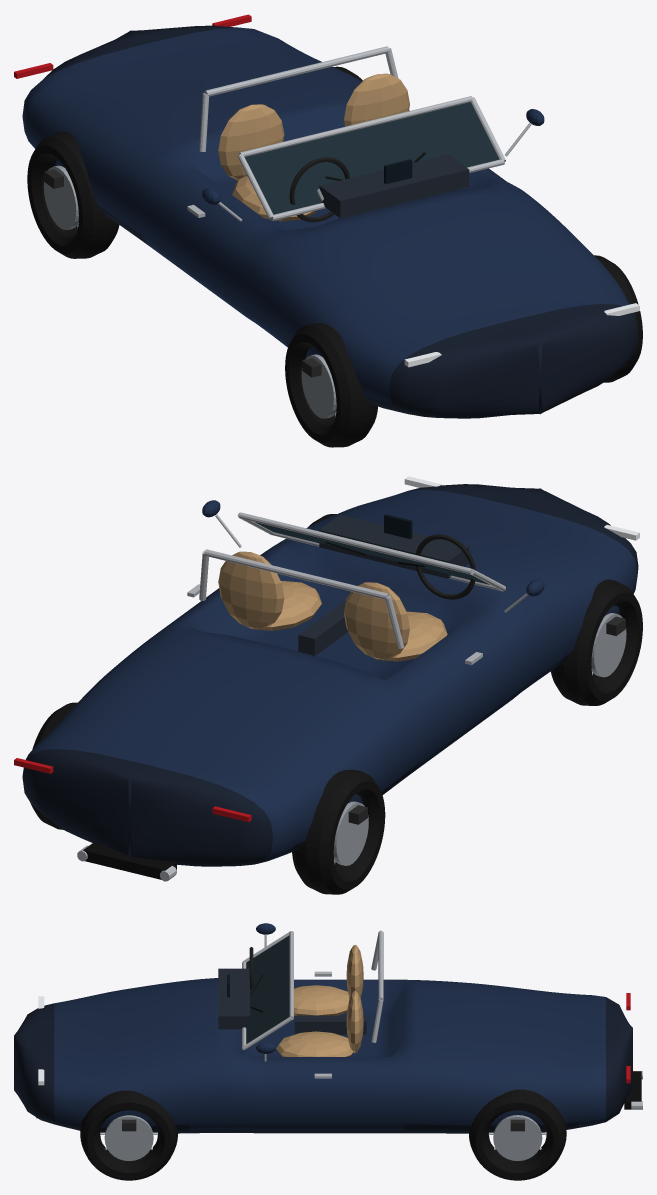
The model's file is Convertible.glb.
3 renders of one model, top to bottom at view 1: azimuth 30°, elevation 25°; view 2: azimuth 150°, elevation 25°; view 3: azimuth 270°, elevation 25°, orthographic. The views are drawn at different scales.
Parts seen in each view (by area): view 1: CarBody, Windscreen, Tyre, Tyre.002, Dashboard, WindscreenFrame, DriverSeatBack, PassengerSeatBack, BrakeDisc, BrakeDisc.002, RollBarTop, Tyre.001 (+2 smaller); view 2: CarBody, Tyre.002, Tyre, PassengerSeatBack, DriverSeatBack, Dashboard, WindscreenFrame, PassengerSeatCushion, DriverSeatCushion, Diffuser, CentreConsole, BrakeDisc.002 (+5 smaller); view 3: CarBody, Tyre.003, Tyre.001, Windscreen, Dashboard, BrakeDisc.003, BrakeDisc.001, PassengerSeatCushion, DriverSeatCushion, CentreConsole, WindscreenFrame, PassengerSeatBack (+2 smaller).
Boxes of the visible parts, x1,y1,x2,y2 form: CarBody: [22, 25, 638, 418]; Windscreen: [244, 102, 499, 214]; Tyre: [285, 323, 377, 447]; Tyre.002: [27, 131, 119, 258]; Dashboard: [319, 154, 469, 218]; WindscreenFrame: [237, 96, 505, 220]; DriverSeatBack: [218, 104, 284, 180]; PassengerSeatBack: [344, 73, 409, 126]; BrakeDisc: [301, 354, 336, 418]; BrakeDisc.002: [43, 165, 78, 229]; RollBarTop: [214, 48, 381, 94]; Tyre.001: [594, 255, 642, 382]; CarBody: [22, 484, 638, 866]; Tyre.002: [292, 769, 385, 894]; Tyre: [551, 579, 642, 705]; PassengerSeatBack: [218, 551, 284, 628]; DriverSeatBack: [344, 582, 409, 659]; Dashboard: [319, 515, 469, 578]; WindscreenFrame: [237, 512, 505, 591]; PassengerSeatCushion: [248, 581, 321, 630]; DriverSeatCushion: [373, 611, 447, 661]; Diffuser: [83, 842, 176, 879]; CentreConsole: [298, 600, 348, 655]; BrakeDisc.002: [333, 801, 368, 865]; CarBody: [14, 978, 632, 1133]; Tyre.003: [469, 1089, 566, 1180]; Tyre.001: [80, 1090, 177, 1180]; Windscreen: [246, 936, 289, 1043]; Dashboard: [218, 968, 249, 1029]; BrakeDisc.003: [493, 1115, 542, 1160]; BrakeDisc.001: [104, 1115, 153, 1160]; PassengerSeatCushion: [276, 1031, 352, 1056]; DriverSeatCushion: [294, 985, 349, 1015]; CentreConsole: [294, 1015, 366, 1034]; WindscreenFrame: [242, 931, 293, 1049]; PassengerSeatBack: [346, 991, 363, 1053].
Size of the model in its own units: 2.04 by 1.27 by 4.37.
